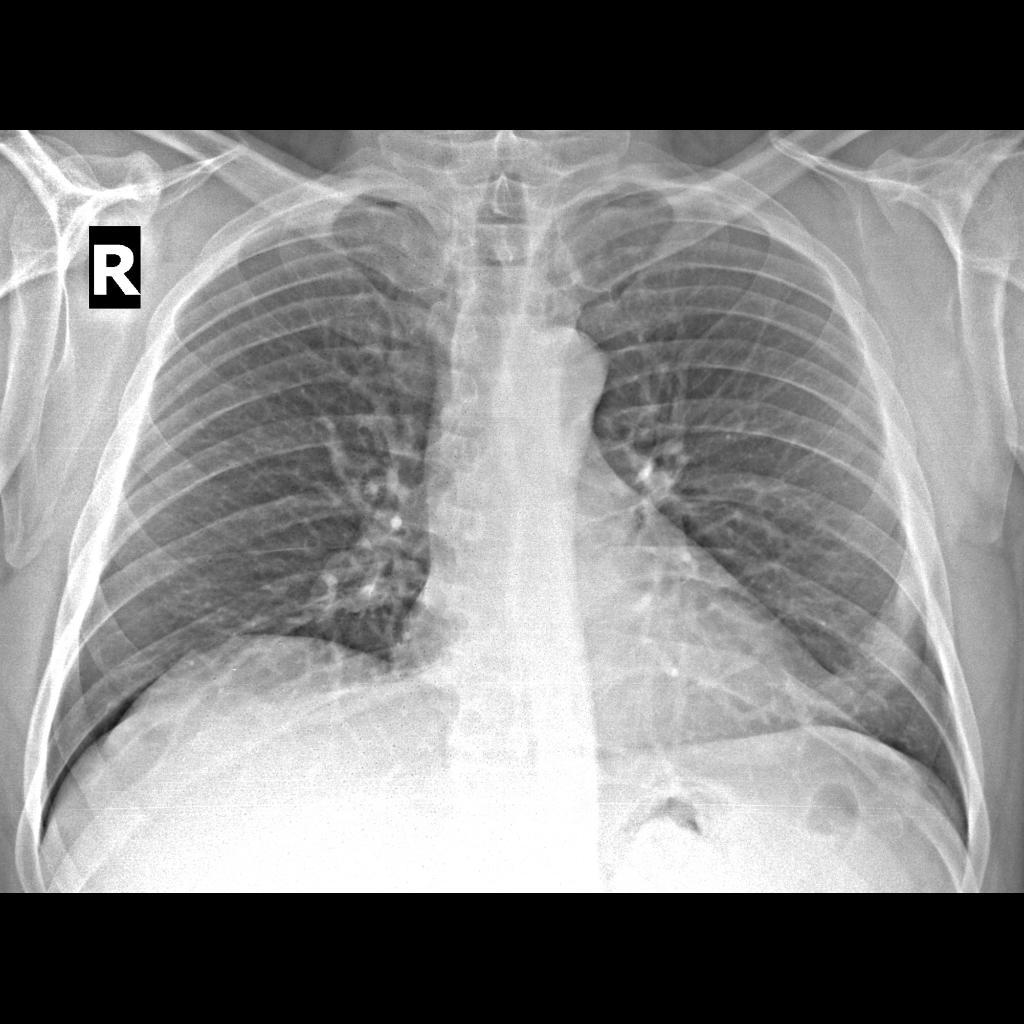Nodule: (831, 592, 934, 700)
